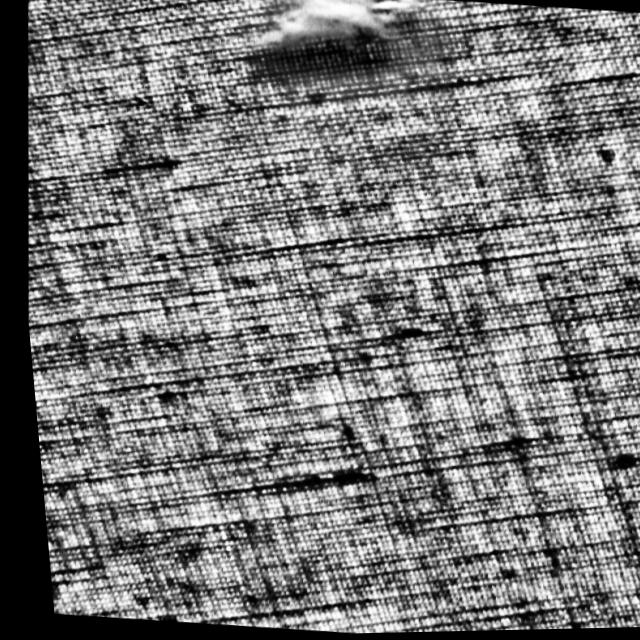Hole: (205, 0, 463, 95)
